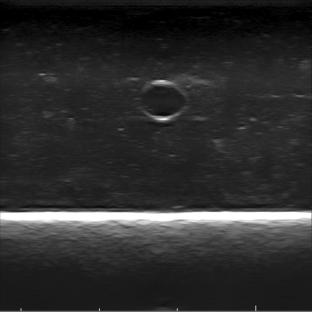vessel: (139, 79, 190, 121)
